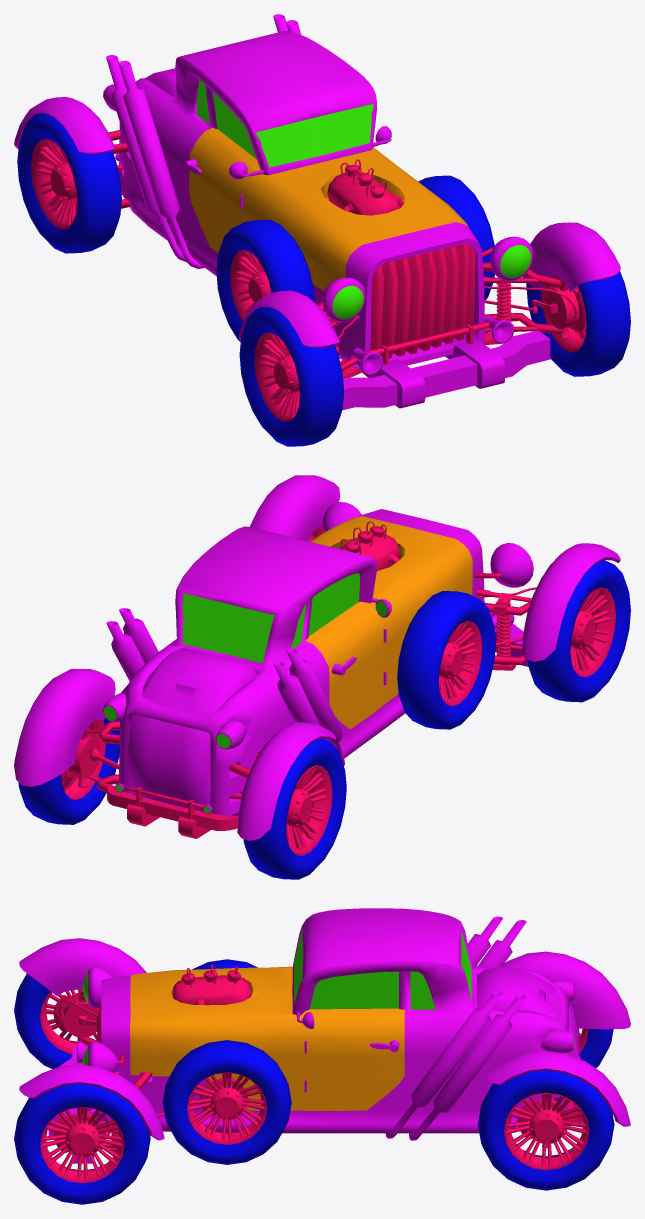
File: gudianpaoche.fbx
3 views of the same model, one above another, from view 1: azimuth 30°, elevation 25°; view 2: azimuth 150°, elevation 25°; view 3: azimuth 270°, elevation 25° (orthographic). The views are drawn at different scales.
Visible parts, largest first — view 1: gudianpaoche_jinshu_1, chetai_l, gudianpaoche_jinshu_2, gudianpaoche_cheqi, guodianpaoche_boli; view 2: gudianpaoche_jinshu_1, chetai_l, gudianpaoche_jinshu_2, gudianpaoche_cheqi, guodianpaoche_boli; view 3: gudianpaoche_jinshu_1, chetai_l, gudianpaoche_cheqi, gudianpaoche_jinshu_2, guodianpaoche_boli.
Boxes of the visible parts, x1,y1,x2,y2 form: gudianpaoche_jinshu_1: (14,14,620,410); chetai_l: (17,113,630,446); gudianpaoche_jinshu_2: (31,130,586,421); gudianpaoche_cheqi: (189,127,467,291); guodianpaoche_boli: (196,80,531,319); gudianpaoche_jinshu_1: (14,475,620,840); chetai_l: (18,560,630,879); gudianpaoche_jinshu_2: (61,521,615,855); gudianpaoche_cheqi: (305,516,472,729); guodianpaoche_boli: (103,573,387,813); gudianpaoche_jinshu_1: (19,908,630,1163); chetai_l: (14,959,614,1204); gudianpaoche_cheqi: (130,966,404,1110); gudianpaoche_jinshu_2: (40,964,589,1183); guodianpaoche_boli: (82,929,574,1065).
Bounding box in the file's own units: 272 × 176 × 486.
